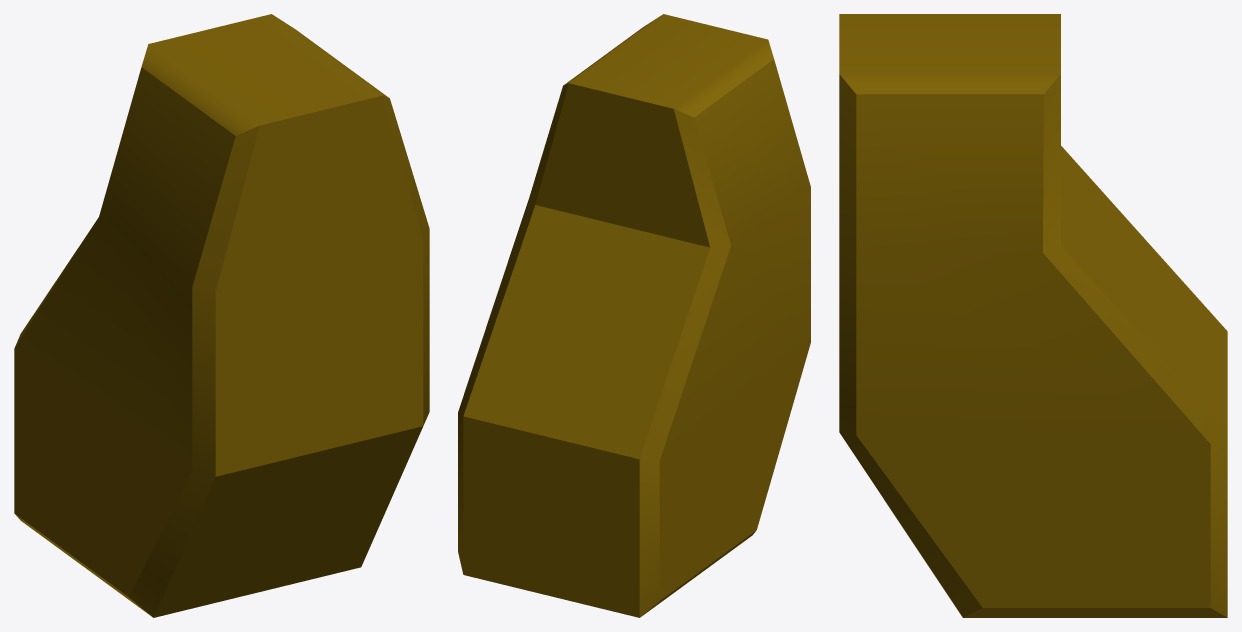
File: mesh_BuildingA_TrimOffsetCap1_v2.fbx
3 views of the same model, side by side, from view 1: azimuth 30°, elevation 25°; view 2: azimuth 150°, elevation 25°; view 3: azimuth 270°, elevation 25° (orthographic). The views are drawn at different scales.
Visible parts, largest first — view 1: mesh_BuildingA_TrimOffsetCap1; view 2: mesh_BuildingA_TrimOffsetCap1; view 3: mesh_BuildingA_TrimOffsetCap1.
Boxes of the visible parts, box(x1,y1,x2,y2) form: mesh_BuildingA_TrimOffsetCap1: box(14, 14, 429, 617); mesh_BuildingA_TrimOffsetCap1: box(458, 14, 810, 617); mesh_BuildingA_TrimOffsetCap1: box(839, 14, 1227, 617).
Size of the model in its own units: 50.22 by 107 by 71.6.
